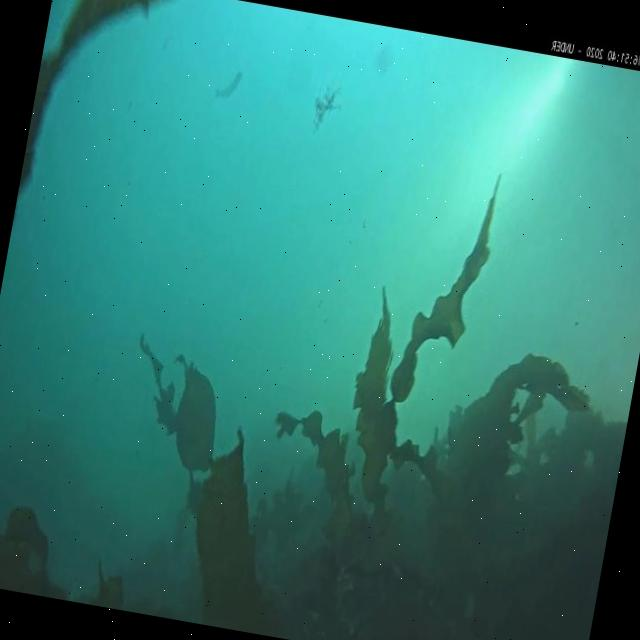fish: (214, 65, 243, 102)
